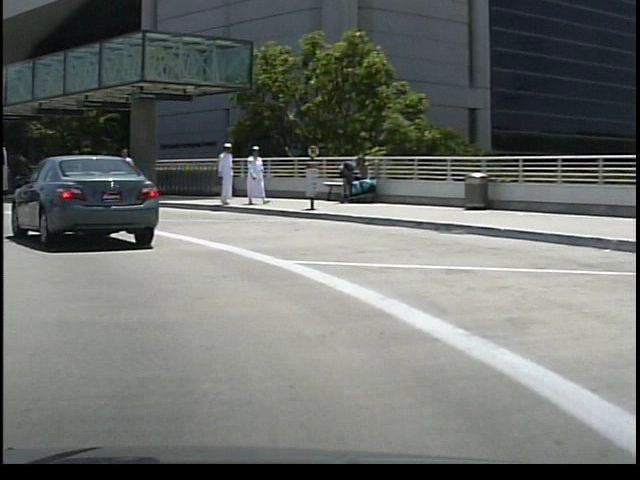person: (206, 139, 237, 213), (106, 143, 135, 218), (239, 143, 266, 205)
